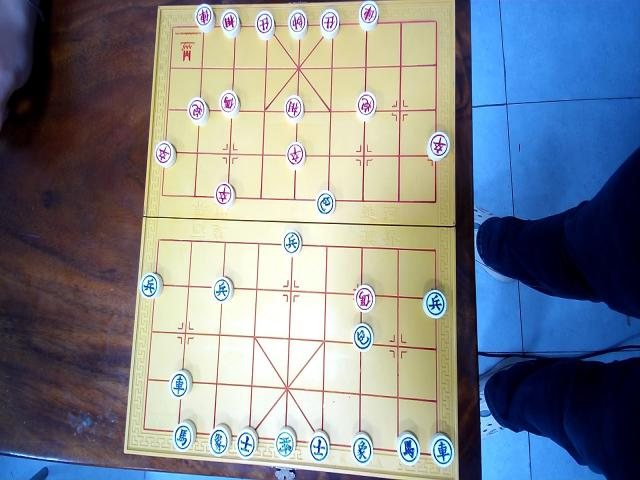piece: (429, 433, 455, 468), (396, 432, 420, 466), (422, 288, 447, 319), (172, 420, 196, 452), (208, 424, 231, 457), (352, 432, 374, 466), (426, 130, 450, 161), (236, 426, 258, 459), (168, 368, 192, 398), (274, 427, 296, 459), (308, 430, 329, 463), (353, 283, 375, 313), (358, 0, 379, 31), (220, 7, 241, 38), (319, 7, 339, 39), (186, 96, 208, 125), (140, 272, 162, 301), (352, 323, 374, 352), (287, 8, 307, 39), (254, 10, 274, 41), (194, 2, 214, 33), (211, 276, 233, 304), (154, 139, 175, 168), (218, 89, 239, 118), (356, 90, 376, 120), (283, 94, 303, 123), (214, 180, 234, 208), (286, 141, 306, 169), (315, 189, 335, 216), (282, 230, 301, 255)
